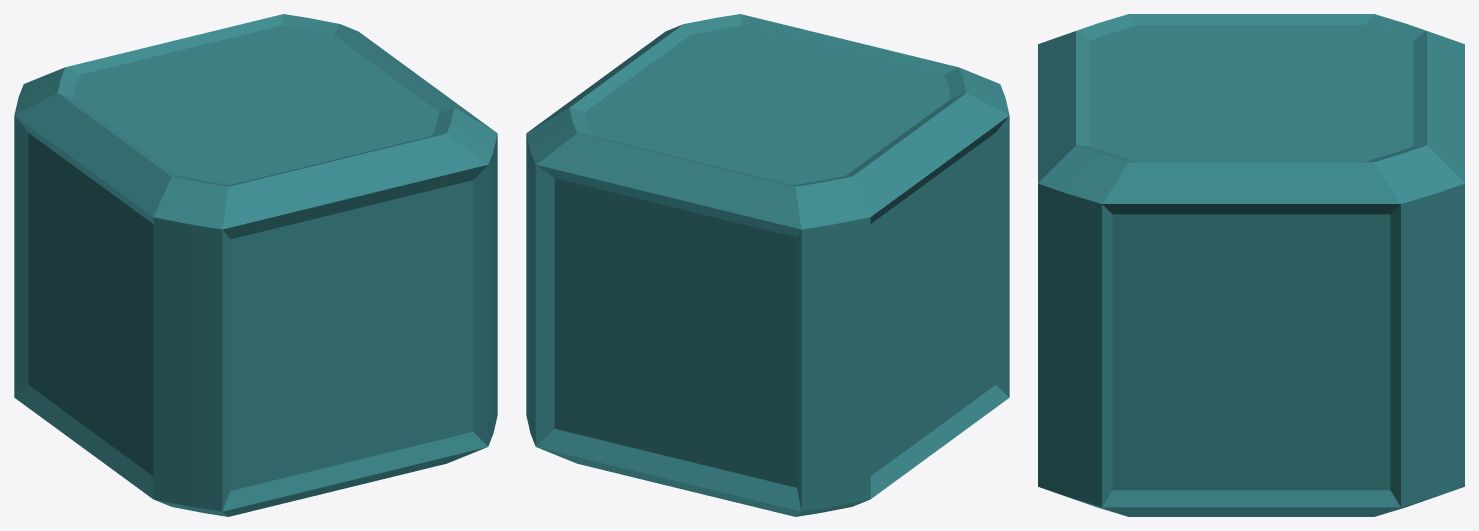
The picture shows the model from 3 angles, left to right: view 1: azimuth 30°, elevation 25°; view 2: azimuth 150°, elevation 25°; view 3: azimuth 270°, elevation 25°; orthographic projection. The views are drawn at different scales.
Parts seen in each view (by area): view 1: pCube1; view 2: pCube1; view 3: pCube1.
Part boxes in pixels (x1,y1,x2,y2): pCube1: [14, 14, 497, 516]; pCube1: [526, 14, 1009, 516]; pCube1: [1038, 14, 1464, 516].
Bounding box in the file's own units: 1 × 0.9169 × 1.
